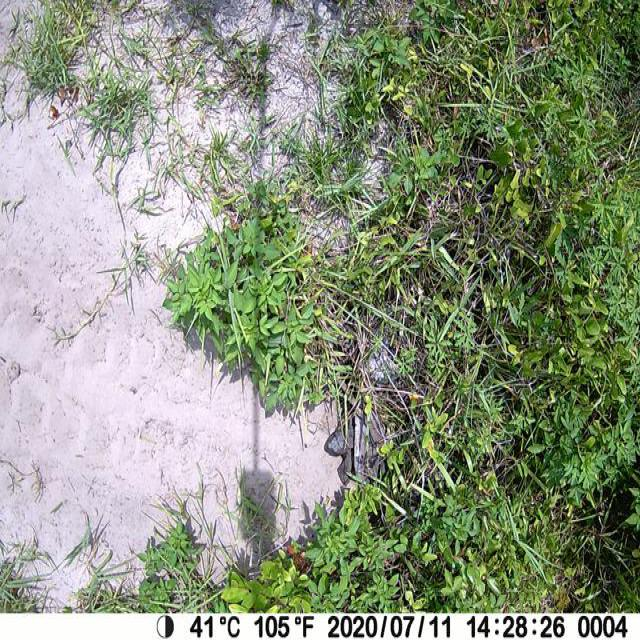tortoise: (322, 384, 385, 484)
